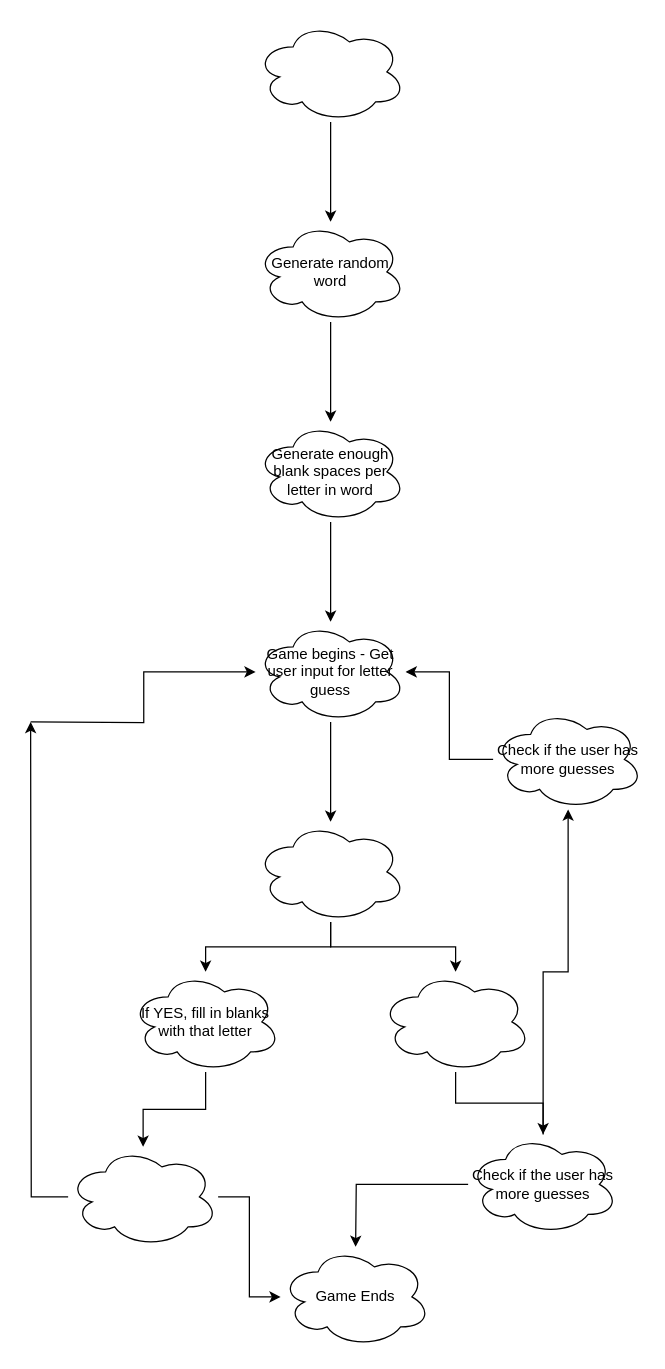
Image size: 665x1369. Some labels were removed from this diagram. Here are the shapes that lost their labels. From the top down, the box of each, then its label:
(254, 21, 406, 122): Start
(254, 821, 406, 922): Determine if the letter guessed is in the word
(379, 971, 531, 1072): If No, lose a life
(67, 1146, 218, 1247): Check if there are more blanks
